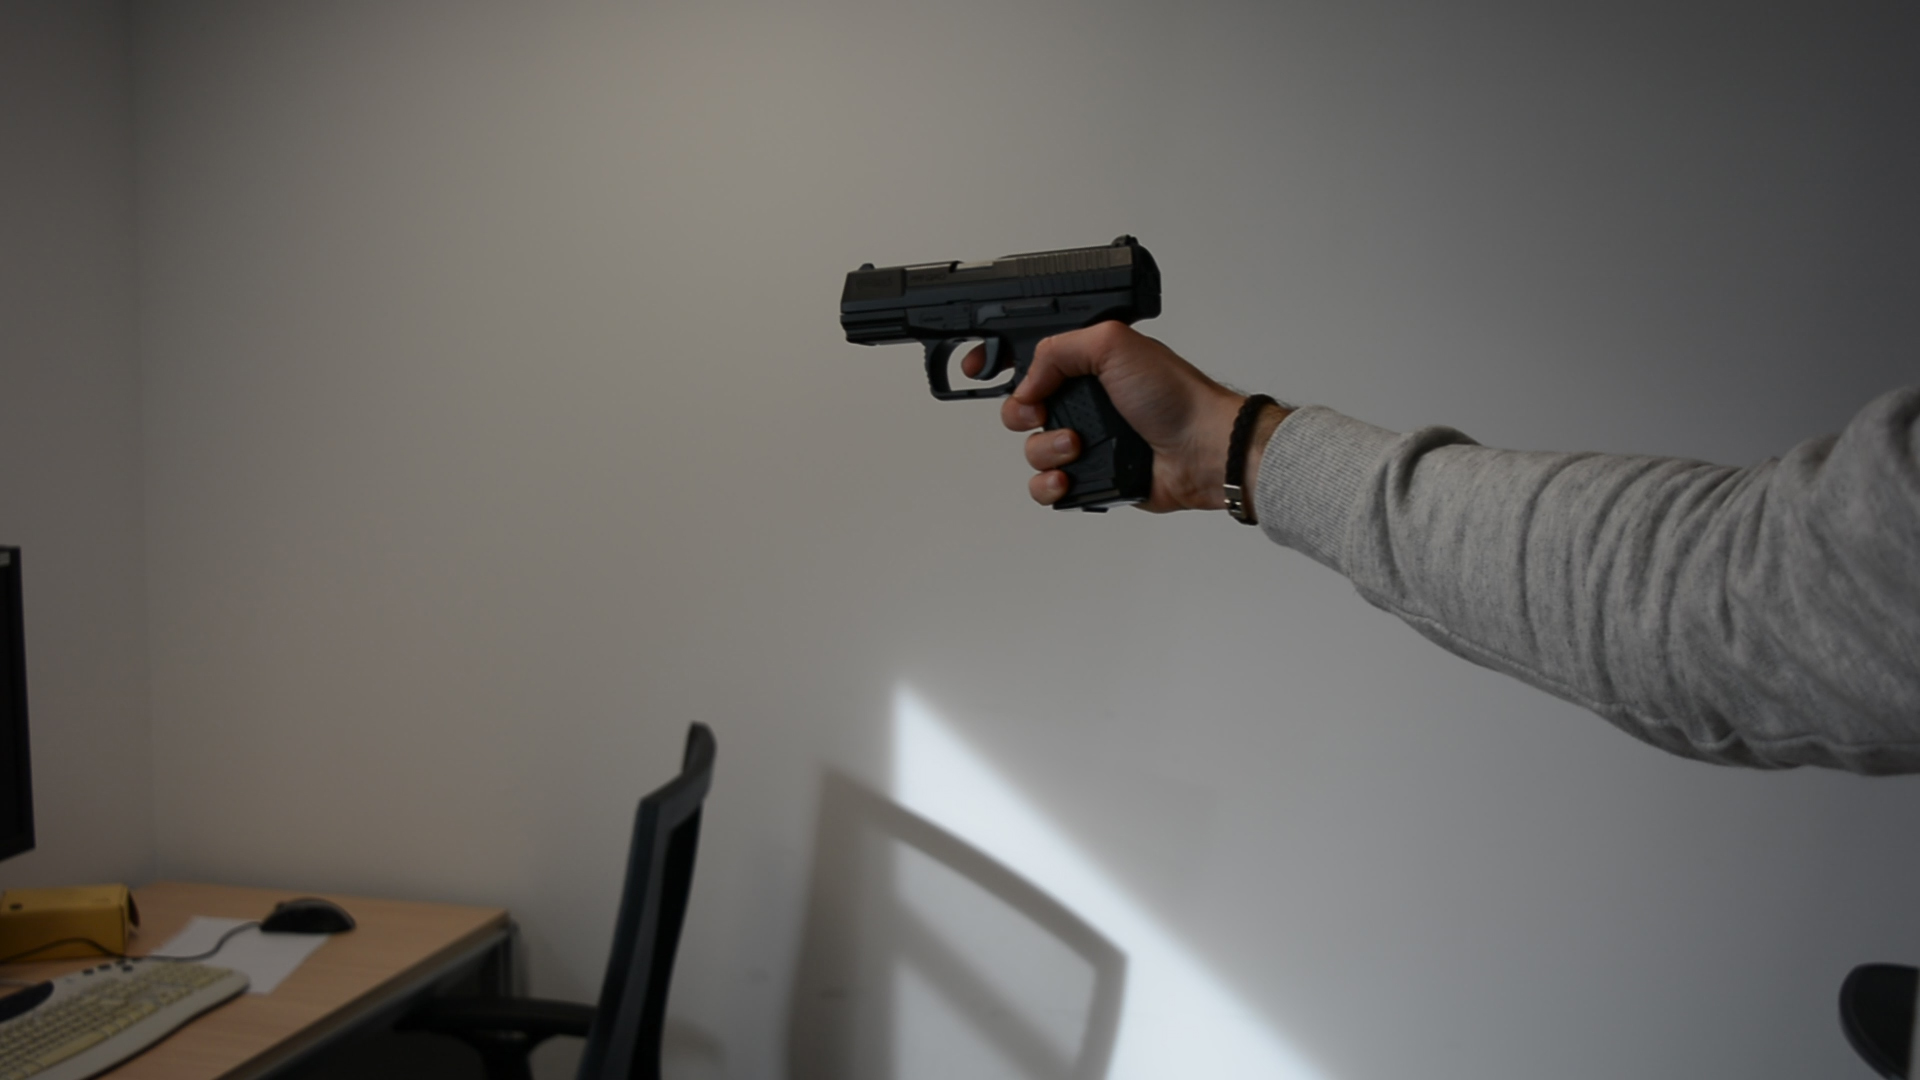pistol: (837, 233, 1164, 517)
